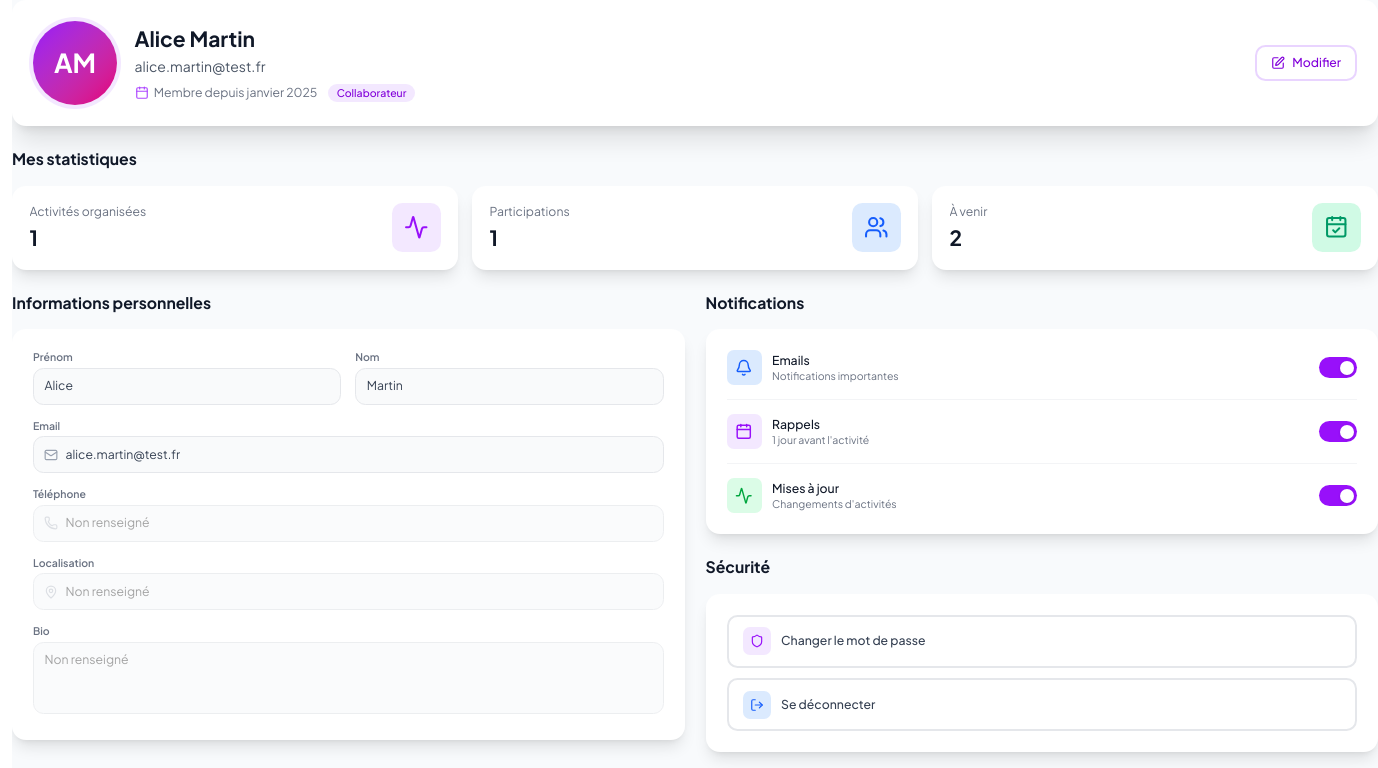
Test case: ProfilePage › passe en mode édition au clic sur Modifier
Check: the heading "Alice Martin" is shown, box [134, 24, 255, 52]
Click the button "Modifier" at (1306, 63), box [1255, 45, 1357, 81]
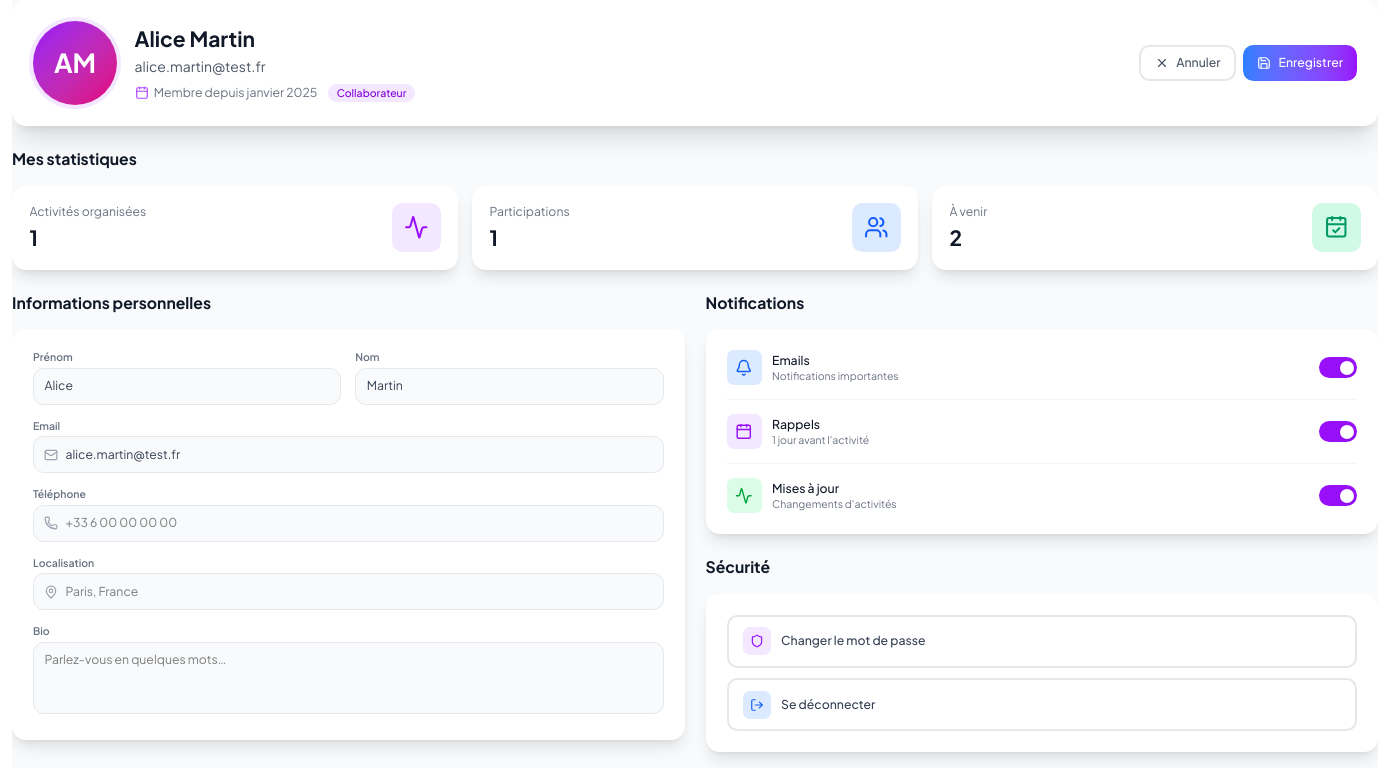
Check: the button "Enregistrer" is shown, box [1244, 45, 1357, 81]
Check: the button "Annuler" is shown, box [1139, 45, 1236, 81]
